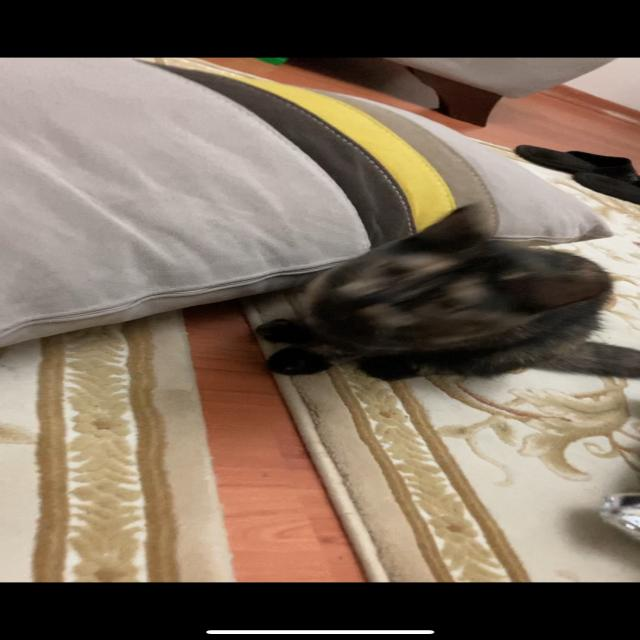authorized: (253, 202, 638, 382)
